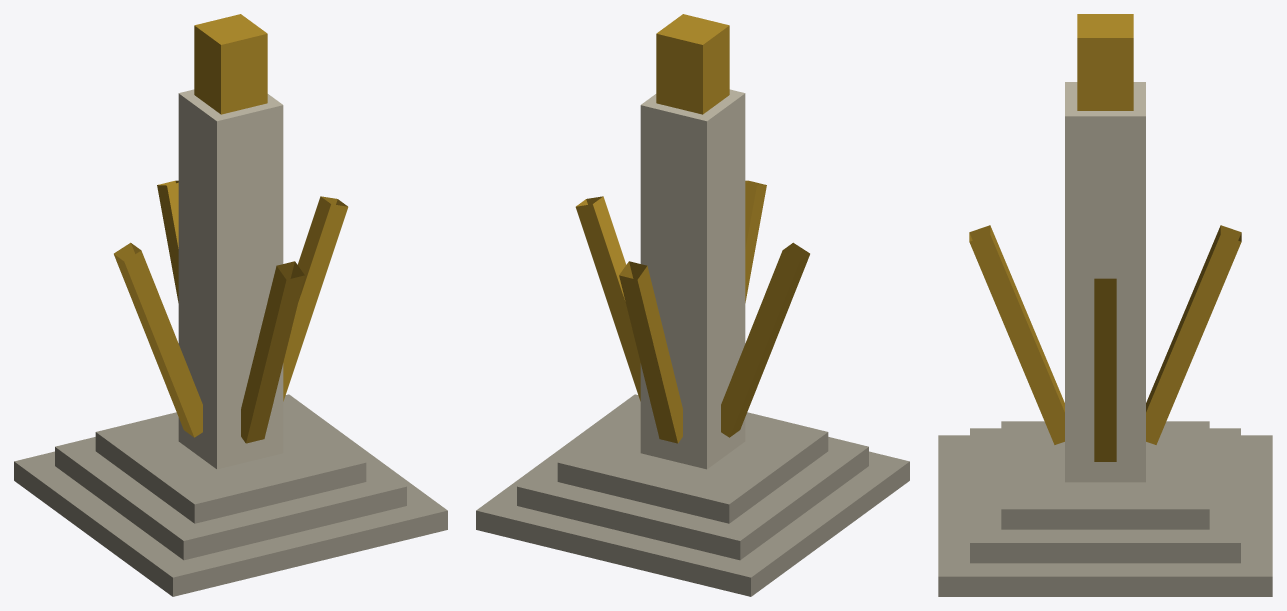
The model's file is tugu-zapin-lod0.glb.
3 views of the same model, side by side, from view 1: azimuth 30°, elevation 25°; view 2: azimuth 150°, elevation 25°; view 3: azimuth 270°, elevation 25° (orthographic). The views are drawn at different scales.
Parts seen in each view (by area): view 1: tugu-zapin_LOD0; view 2: tugu-zapin_LOD0; view 3: tugu-zapin_LOD0.
Part boxes in pixels (<box>): tugu-zapin_LOD0: <box>14,14,447,596</box>; tugu-zapin_LOD0: <box>476,14,909,596</box>; tugu-zapin_LOD0: <box>938,14,1272,596</box>.
Size of the model in its own units: 7.44 by 12.3 by 7.44.
